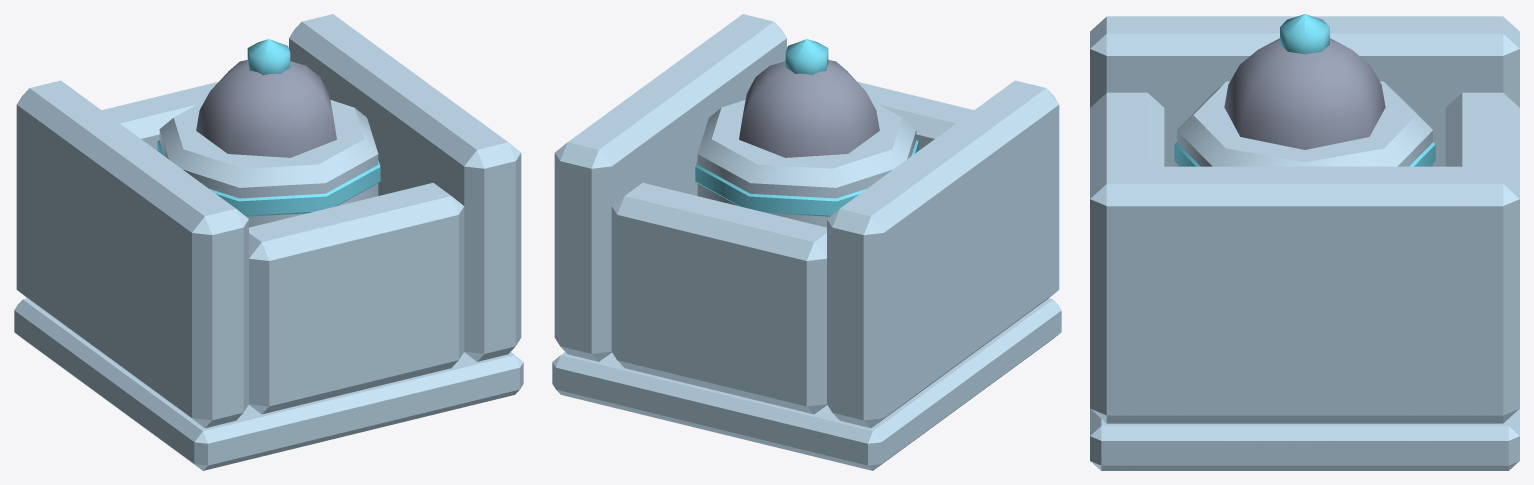
The model's file is R4X_DeployableShieldGenerator_LOD1.glb.
The picture shows the model from 3 angles, left to right: view 1: azimuth 30°, elevation 25°; view 2: azimuth 150°, elevation 25°; view 3: azimuth 270°, elevation 25°; orthographic projection. The views are drawn at different scales.
Visible parts, largest first — view 1: R4X_DeployableShieldGenerator_LOD1; view 2: R4X_DeployableShieldGenerator_LOD1; view 3: R4X_DeployableShieldGenerator_LOD1.
Boxes of the visible parts, x1,y1,x2,y2 form: R4X_DeployableShieldGenerator_LOD1: (14, 14, 523, 470); R4X_DeployableShieldGenerator_LOD1: (552, 14, 1061, 470); R4X_DeployableShieldGenerator_LOD1: (1090, 14, 1519, 470).
Size of the model in its own units: 0.52 by 0.495 by 0.52.
